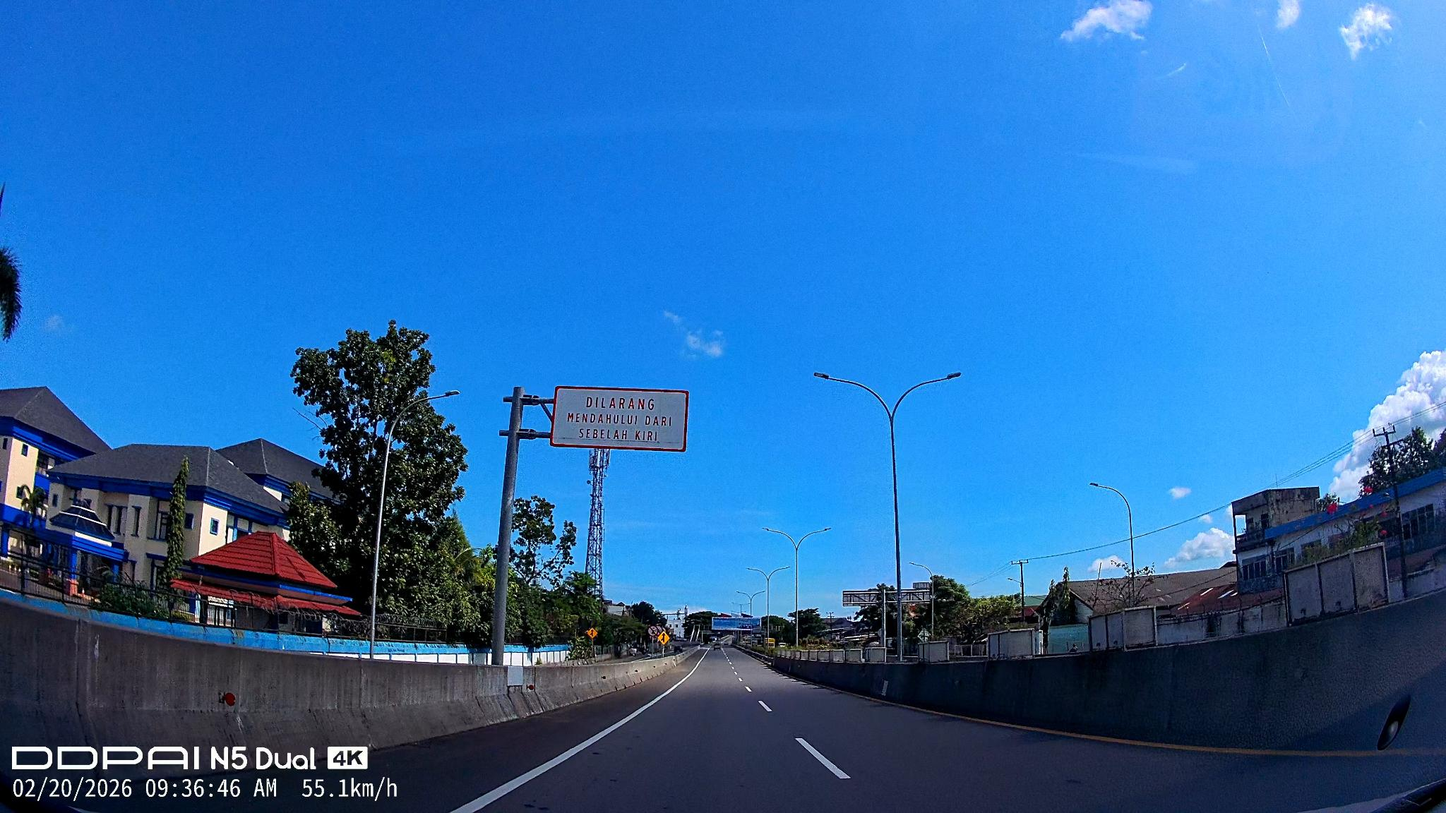rambu_teks: (550, 385, 690, 453)
